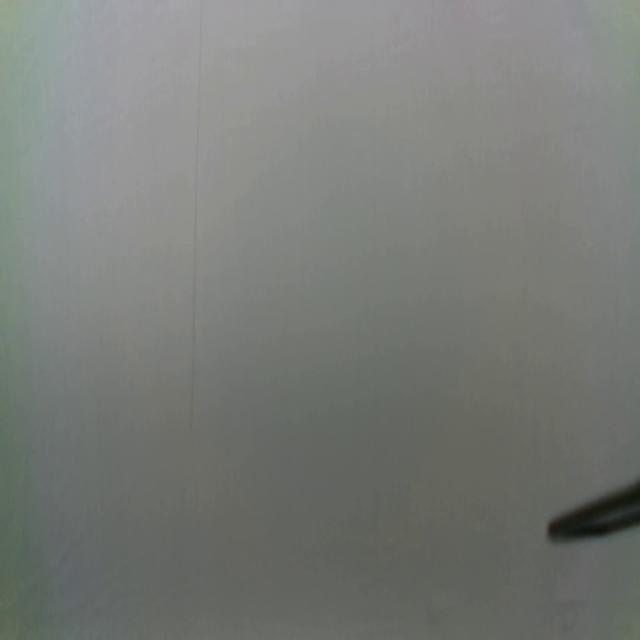crease: (185, 0, 207, 448)
